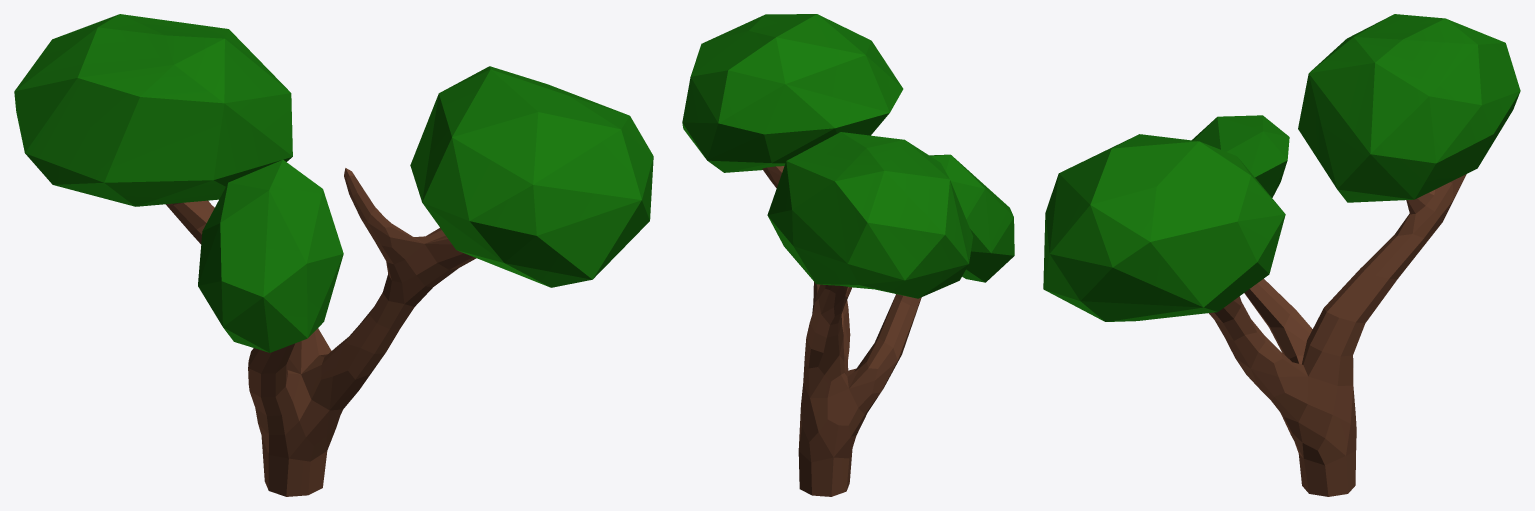
File: 3Stad.fbx
3 renders of one model, left to right at view 1: azimuth 30°, elevation 25°; view 2: azimuth 150°, elevation 25°; view 3: azimuth 270°, elevation 25°, orthographic. The views are drawn at different scales.
Parts seen in each view (by area): view 1: Cube.034; view 2: Cube.034; view 3: Cube.034.
Boxes of the visible parts, x1,y1,x2,y2 form: Cube.034: [14, 14, 653, 496]; Cube.034: [682, 14, 1014, 496]; Cube.034: [1043, 14, 1520, 496].
Size of the model in its own units: 179 by 165 by 175.
